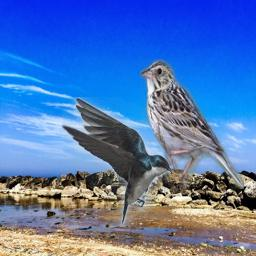Sparrow: (140, 59, 244, 189)
Swallow: (62, 97, 171, 227)
